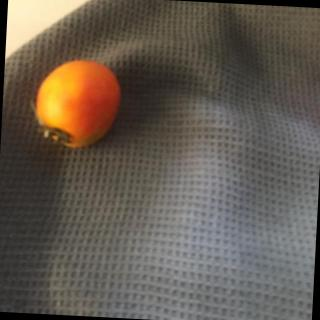Tomat: (16, 54, 137, 164)
